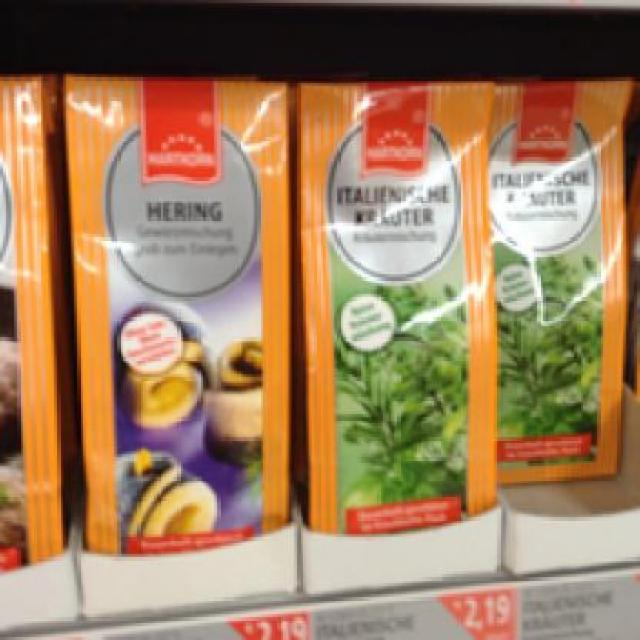Spices: (60, 66, 286, 554), (294, 77, 494, 537)
